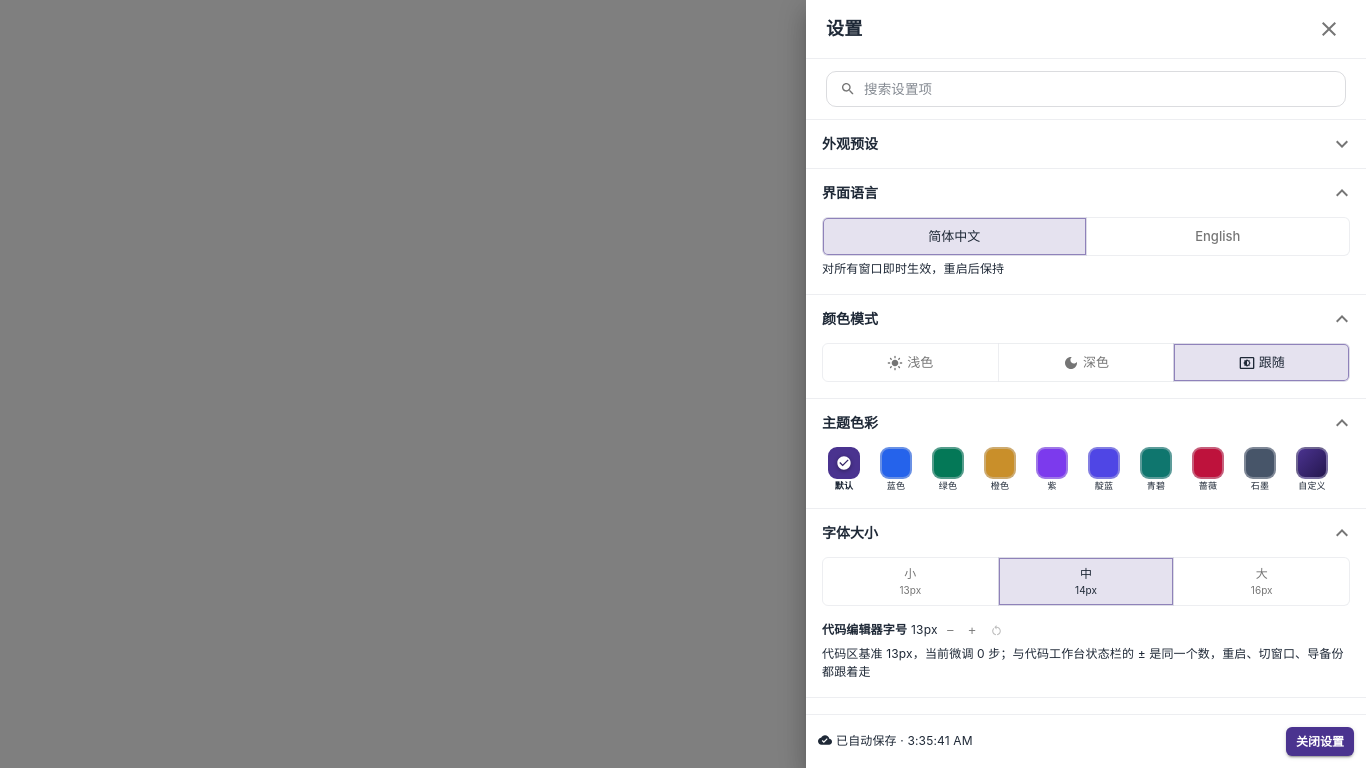
it: 外观预设面板 · 默认收起 › 打开抽屉时外观预设章节是收起的，点击标题可展开／再收起
What coordinates should you click on to do the following:
click the button with test id "appearance-preset-summary"
I would click on:
 (850, 144)
Its box is [806,120,1365,168].
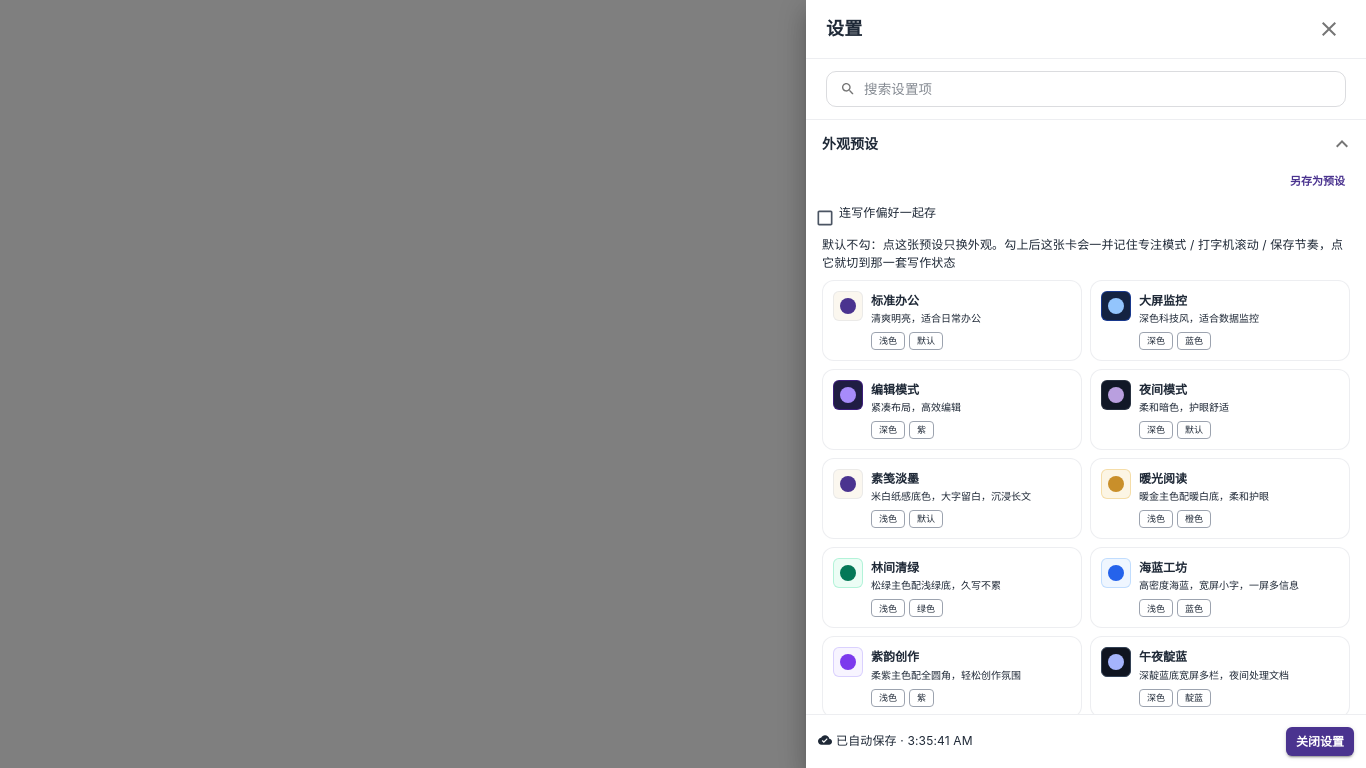
Now the button with test id "appearance-preset-summary" is expanded
What coordinates should you click on to do the following:
click the button with test id "appearance-preset-summary"
I would click on:
 (850, 144)
Its box is [806,120,1365,168].
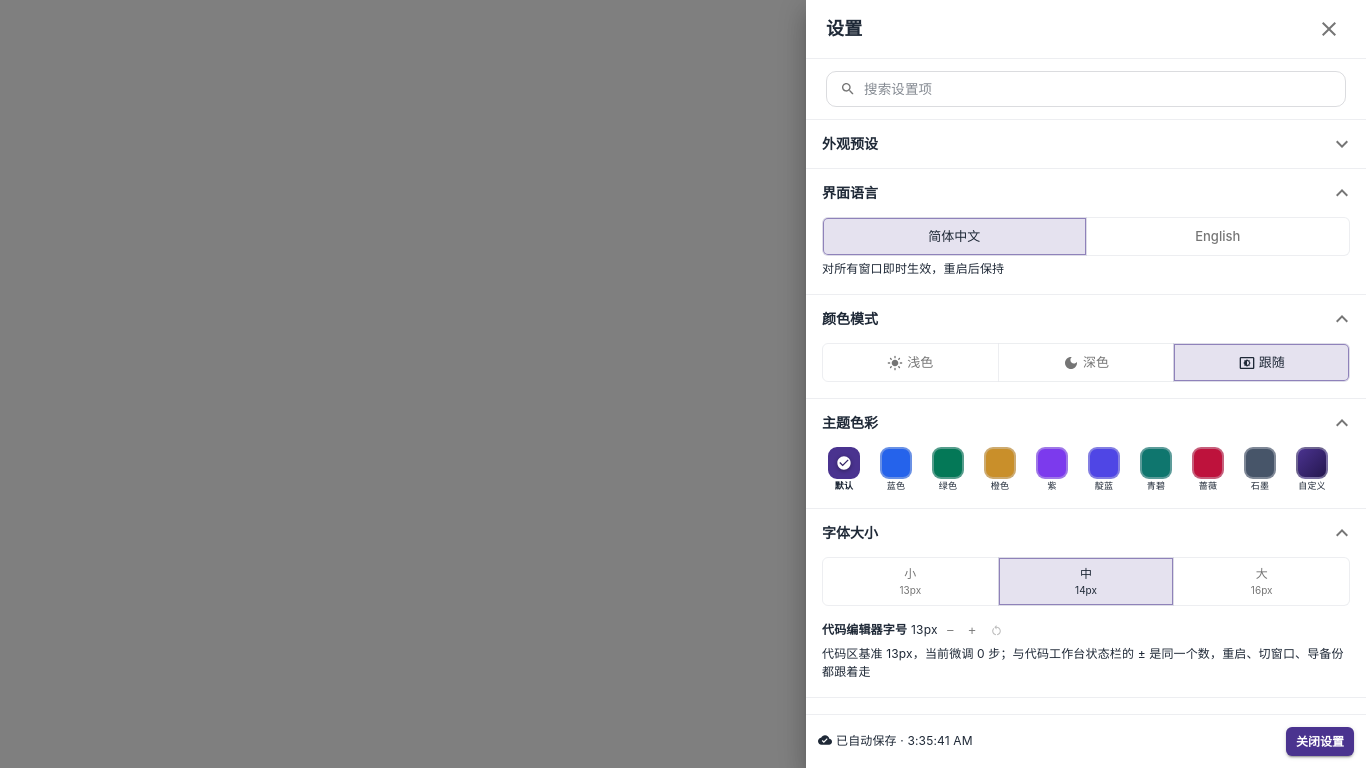
Now the button with test id "appearance-preset-summary" is collapsed, box [806,120,1365,168]
